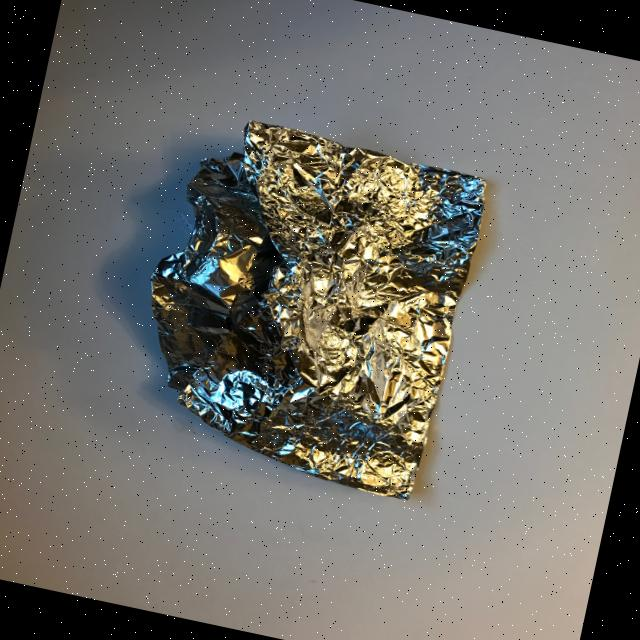metal: (116, 105, 493, 504)
